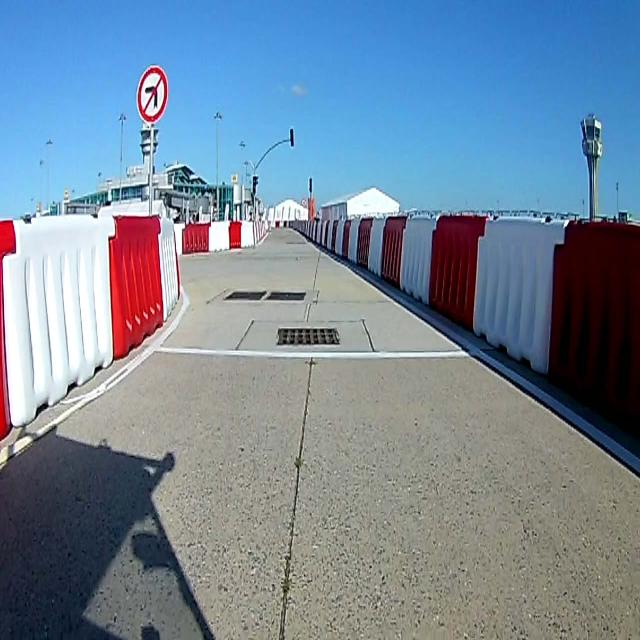soladonulmez: (136, 60, 170, 124)
